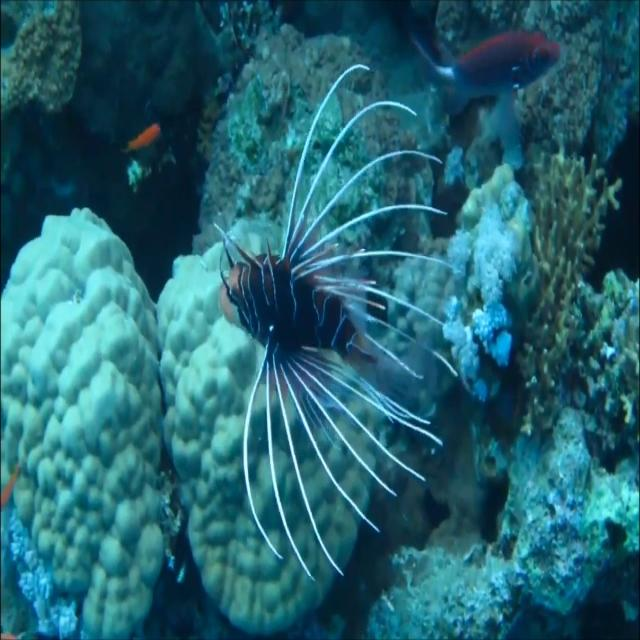Lionfish -Endangered- -Poisonous-: (222, 62, 456, 580)
